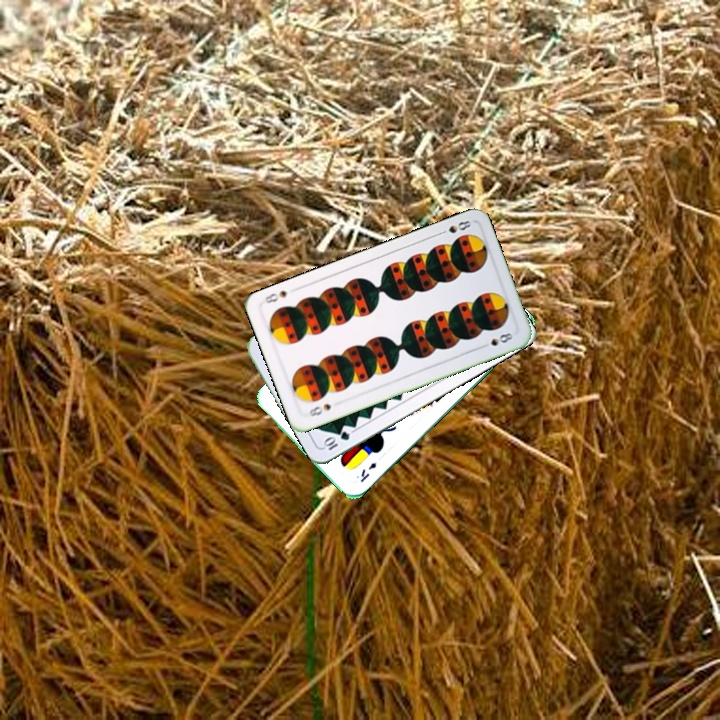EK: (356, 458, 379, 484)
G10: (319, 427, 352, 453)
S8: (434, 216, 474, 238), (305, 399, 334, 419)
